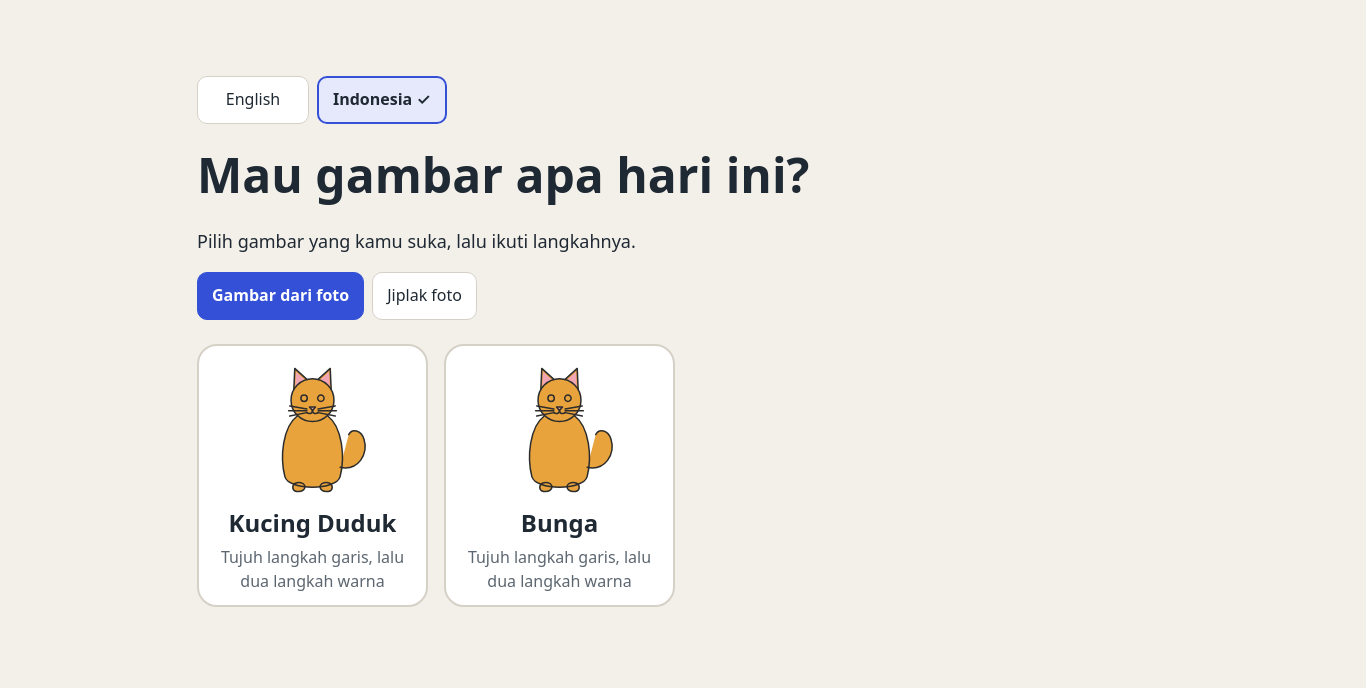
Test: leaving a drawing › still reaches the picker and says so when the save fails
Check: the heading "Mau gambar apa hari ini?" is shown, box [197,142,809,207]
Click the button "Kucing Duduk Tujuh langkah garis, lalu dua langkah warna".
click(312, 475)  # box [197,344,428,607]
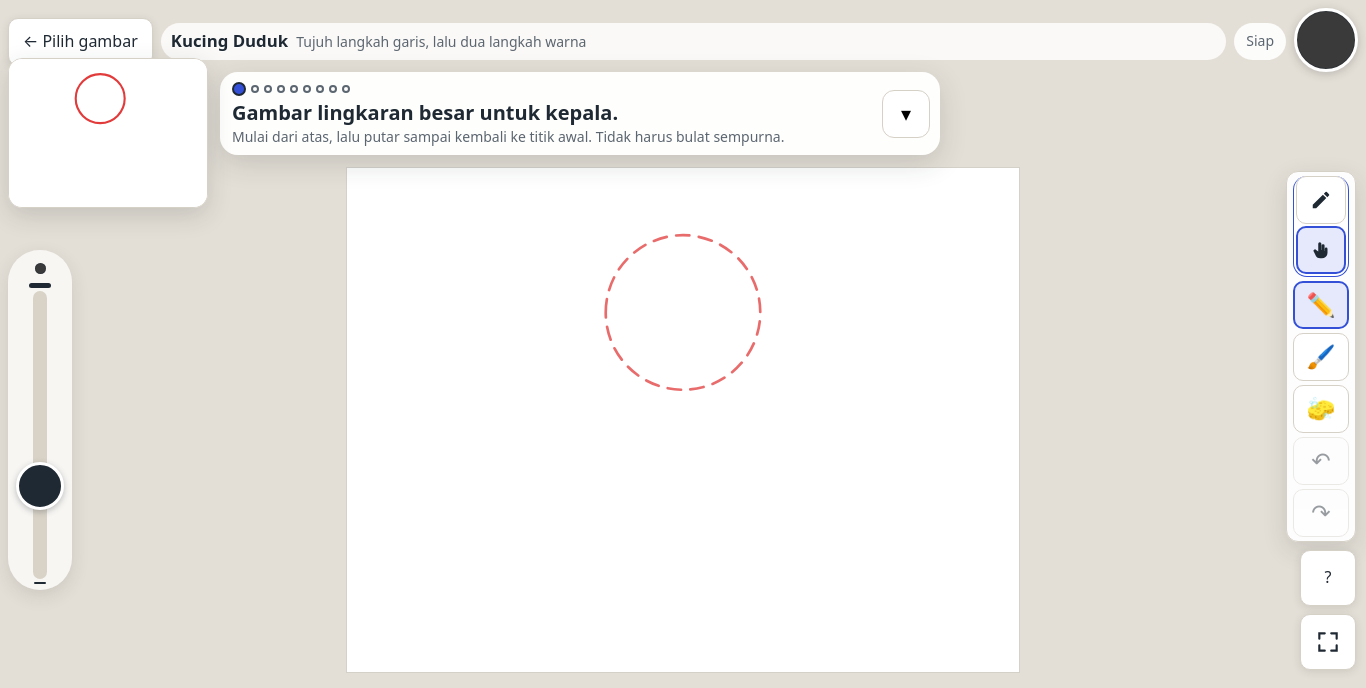
Check: the heading "Kucing Duduk" is shown, box [171,29,288,54]
Click the button "← Pilih gambar".
click(80, 42)  # box [8,18,153,66]
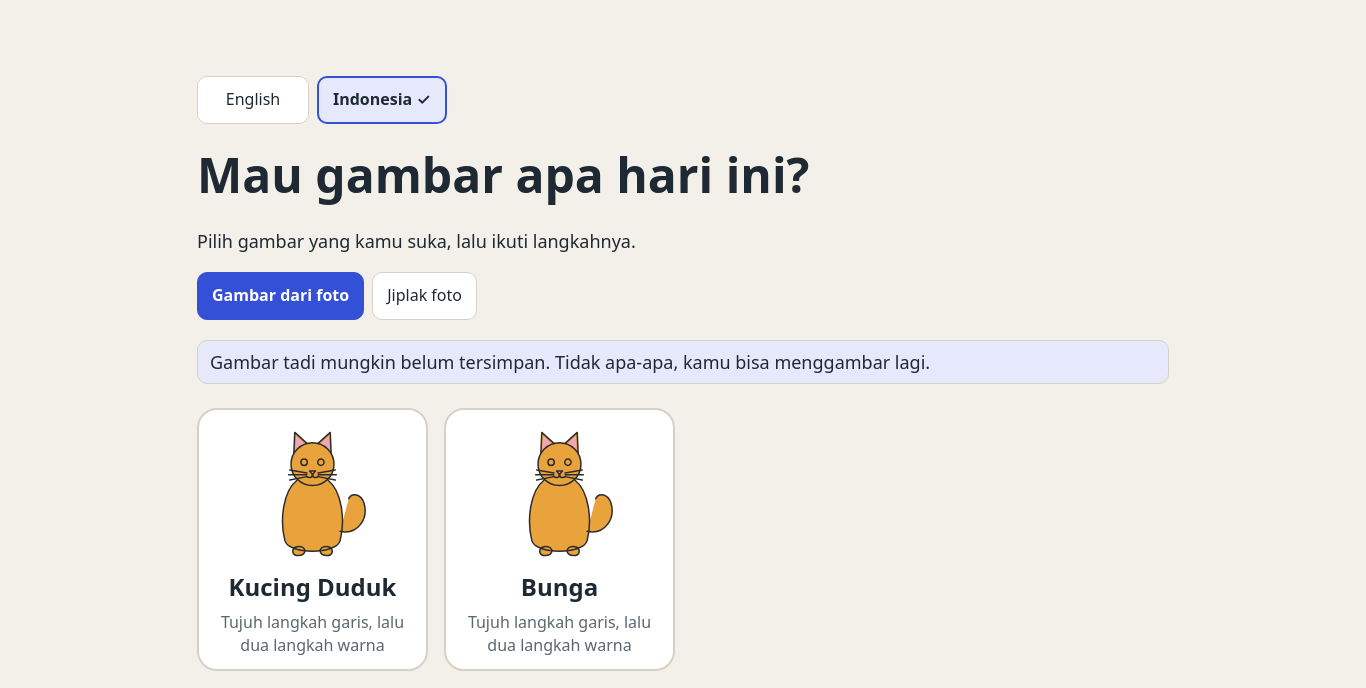
Check: the heading "Mau gambar apa hari ini?" is shown, box [197,142,809,207]
Check: the text "Gambar tadi mungkin belum tersimpan. Tidak apa-apa, kamu bisa menggambar lagi." is shown, box [197,340,1169,384]
